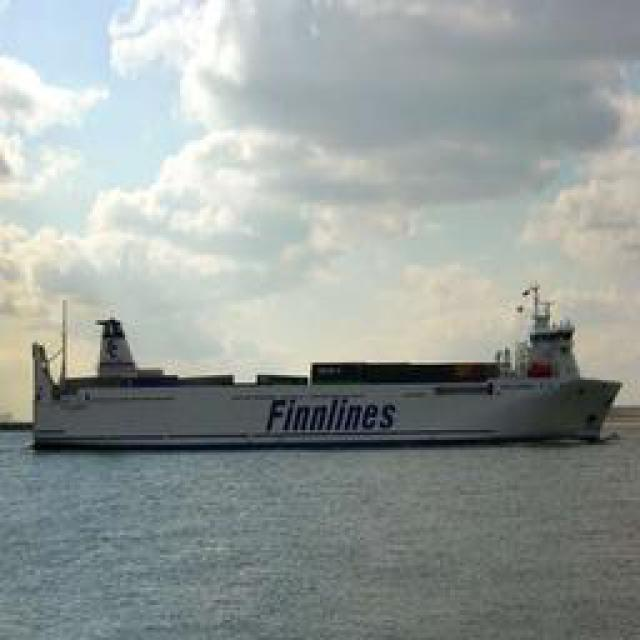Ship: (24, 292, 617, 450)
